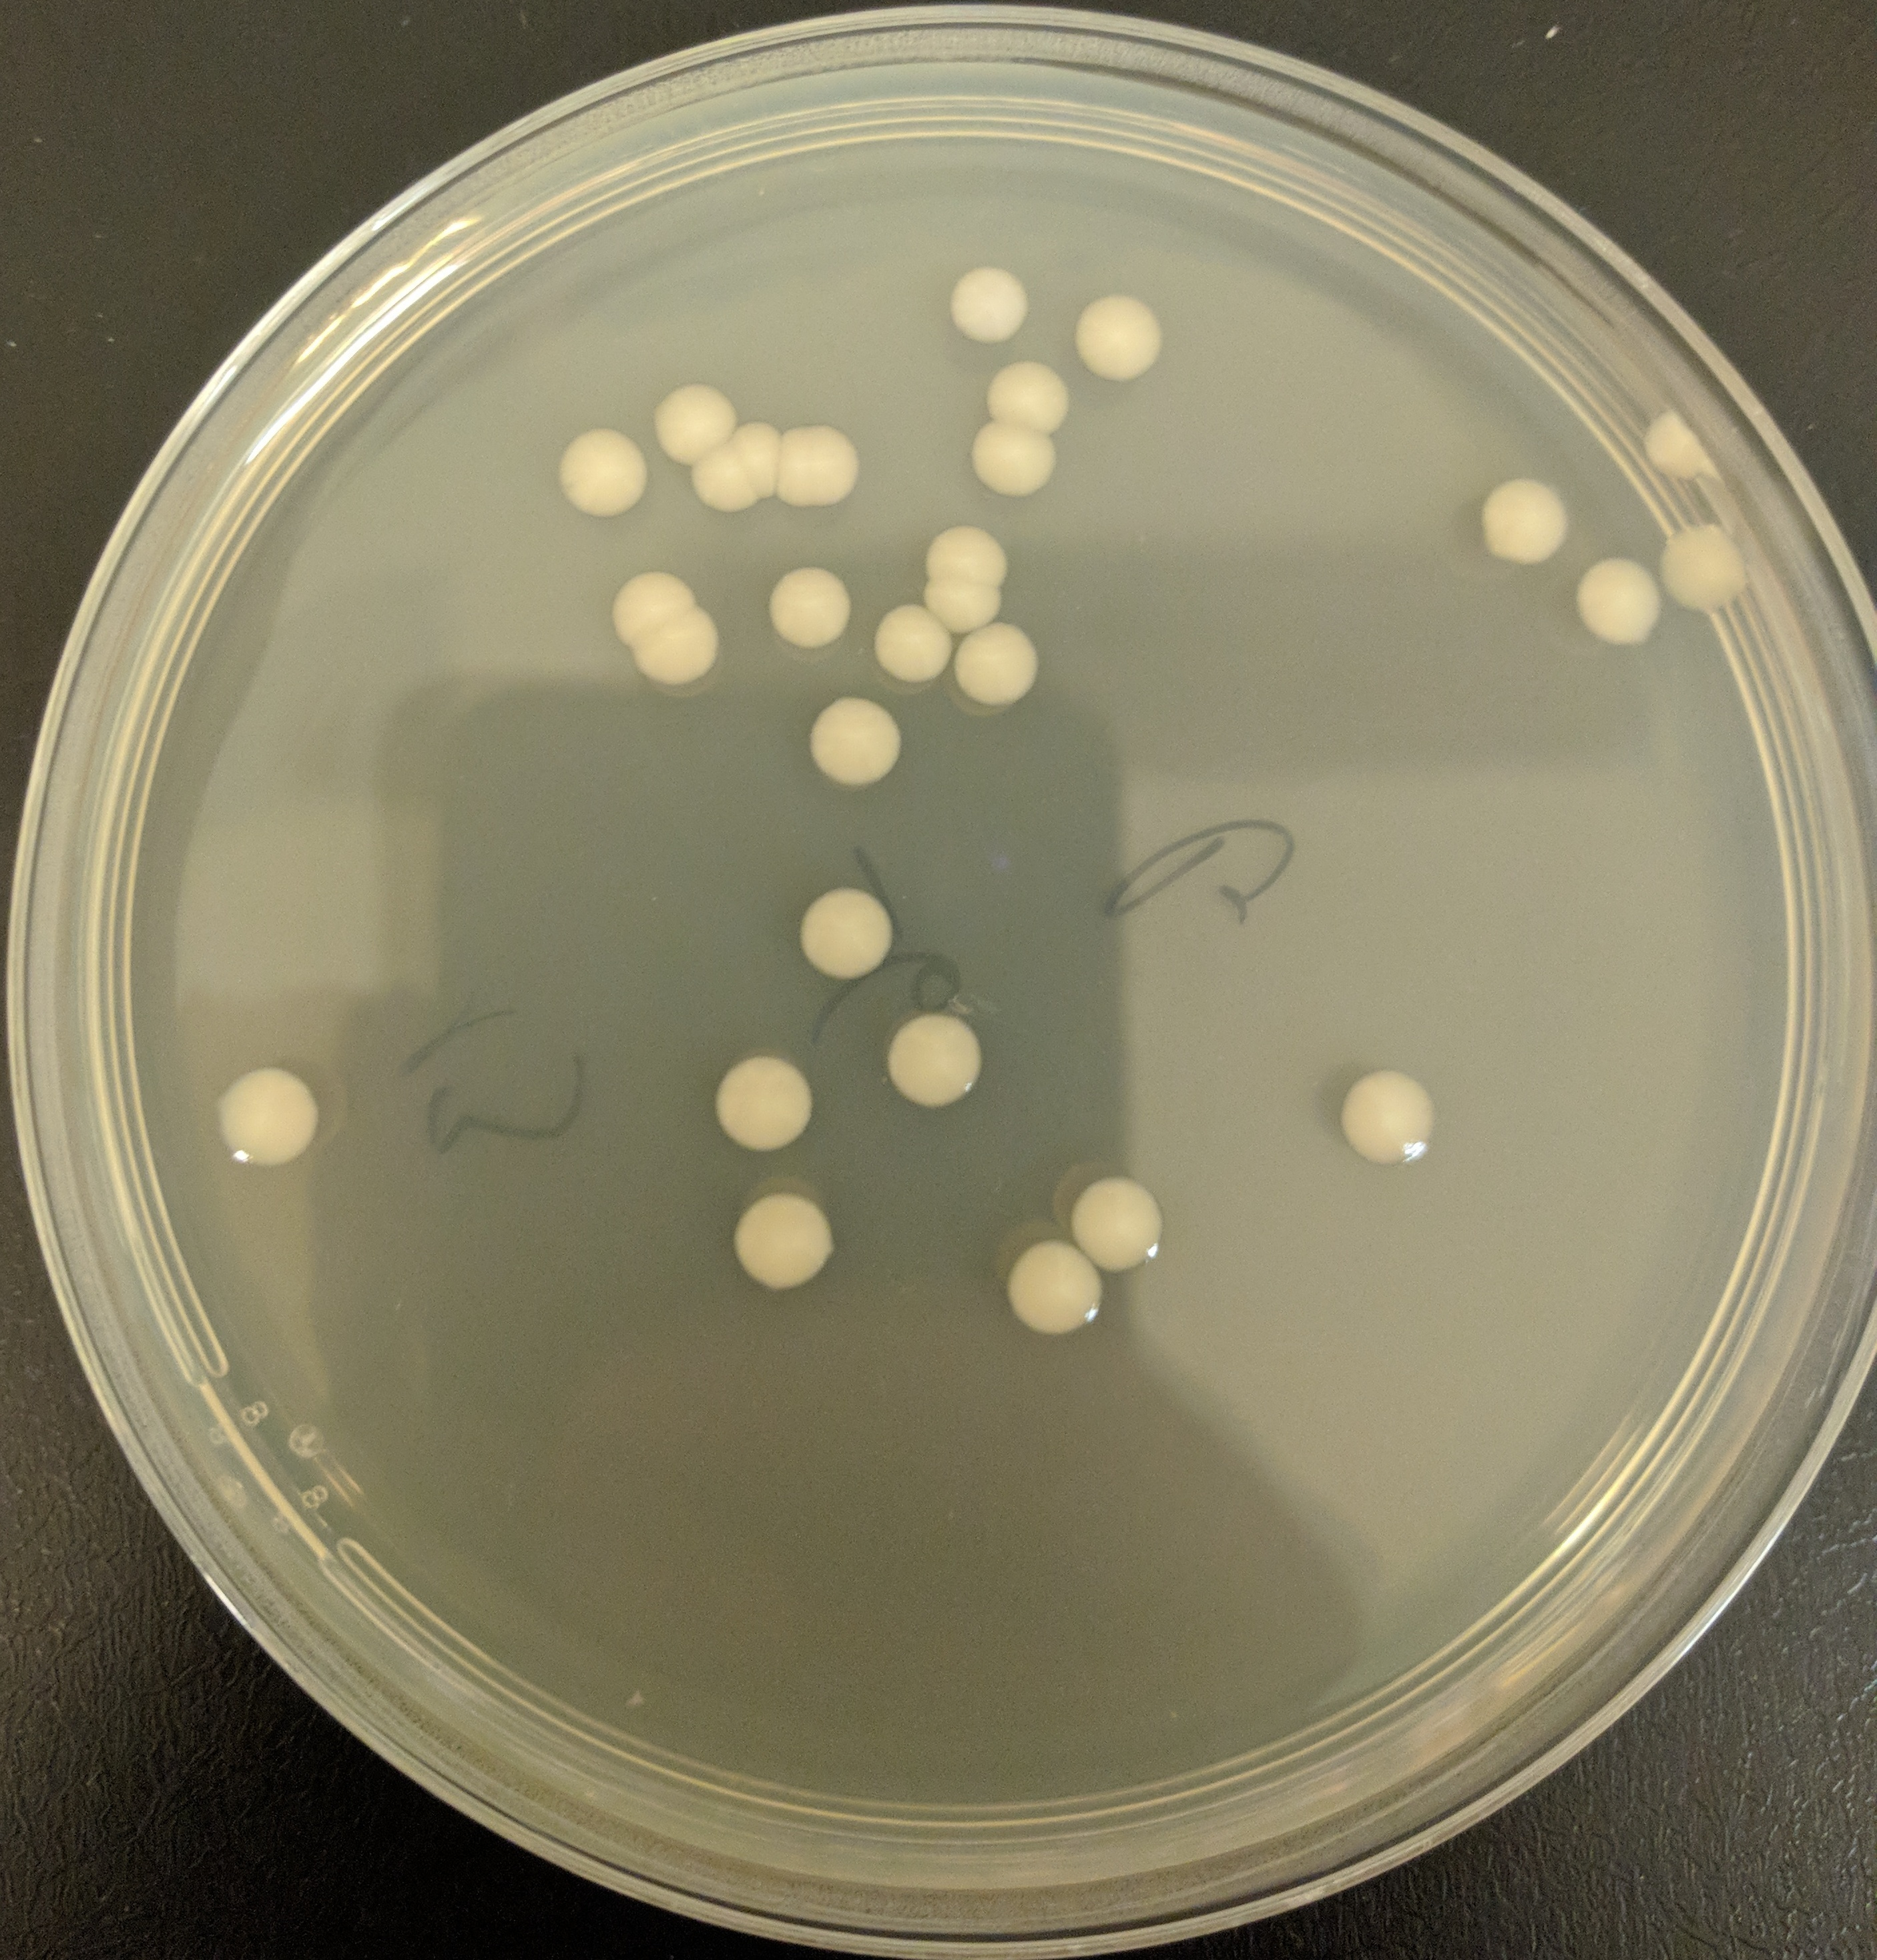sp11: (983, 1221, 1130, 1360), (192, 1055, 334, 1185), (780, 857, 915, 990), (698, 1041, 831, 1162), (745, 409, 883, 520), (539, 409, 659, 534), (1062, 1157, 1183, 1281), (724, 1179, 848, 1298), (882, 1003, 994, 1118), (1468, 465, 1578, 577), (1067, 282, 1174, 397), (1331, 1060, 1441, 1171), (1660, 500, 1749, 630), (626, 590, 721, 710), (939, 611, 1046, 717), (649, 366, 743, 485), (936, 250, 1037, 357), (1634, 392, 1732, 499), (1567, 549, 1665, 656), (597, 558, 707, 653), (864, 593, 959, 696), (808, 686, 896, 796), (764, 555, 862, 653), (966, 409, 1069, 502), (974, 352, 1081, 441), (917, 555, 1011, 653), (913, 518, 1023, 591), (710, 401, 778, 499), (693, 427, 761, 520)
